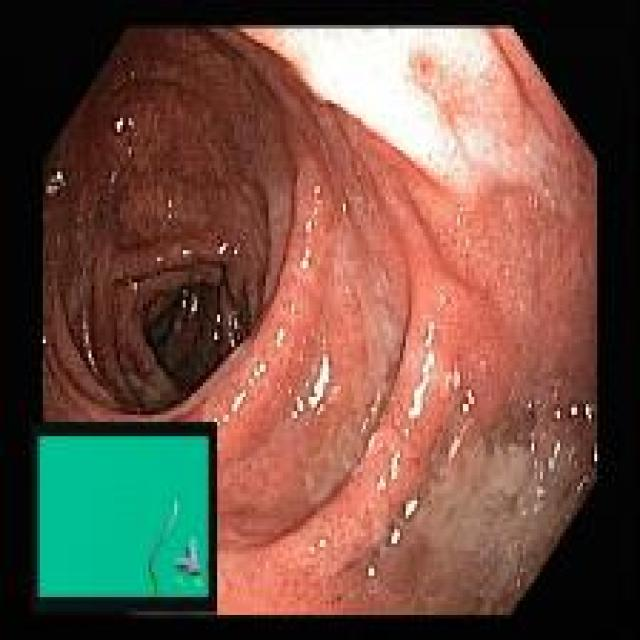ulcerative-colitis: (45, 28, 598, 614)
